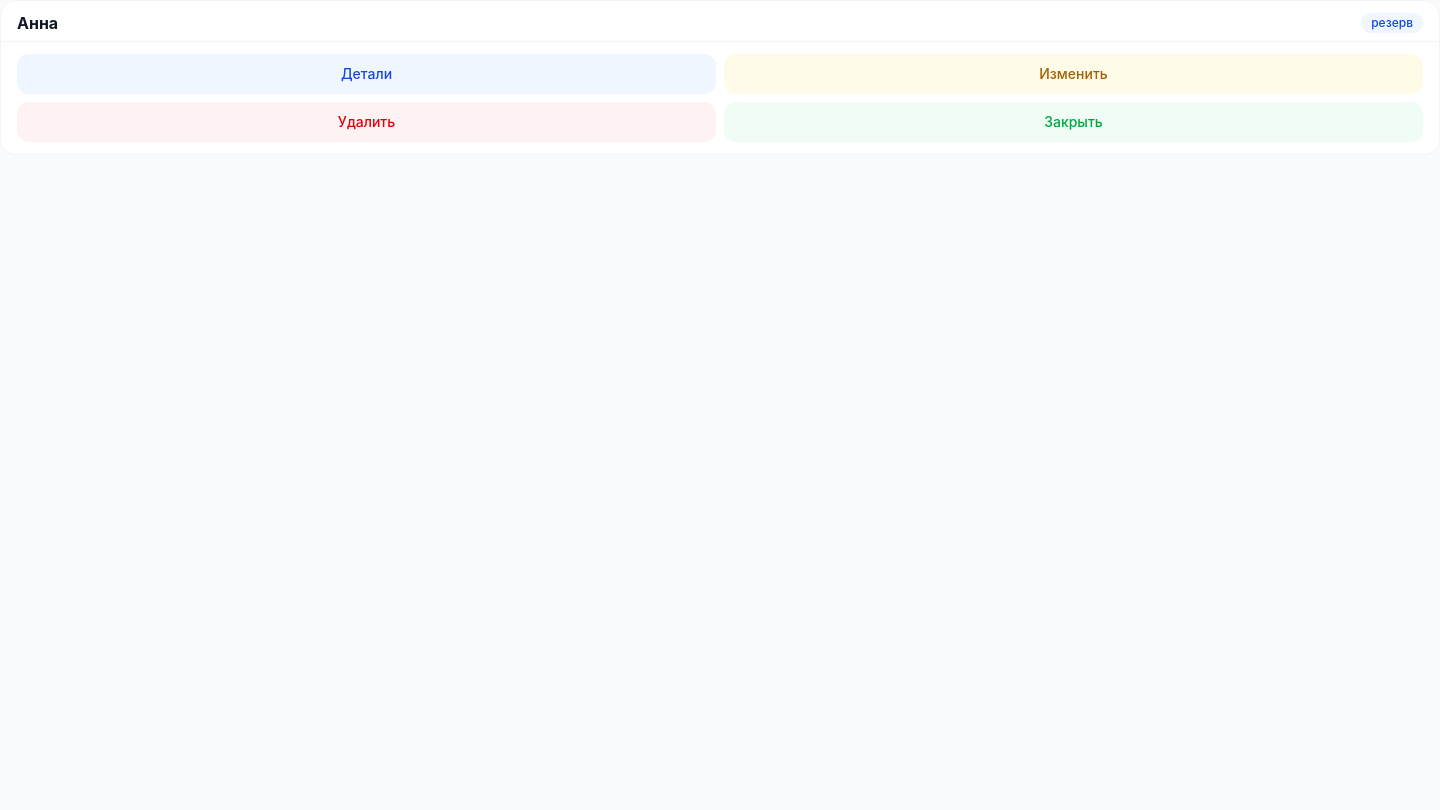
Test: OrderCard › клик удалить показывает диалог подтверждения
This screenshot has width=1440, height=810.
Click the button "Удалить": x=366, y=122 [17,102,716,142]
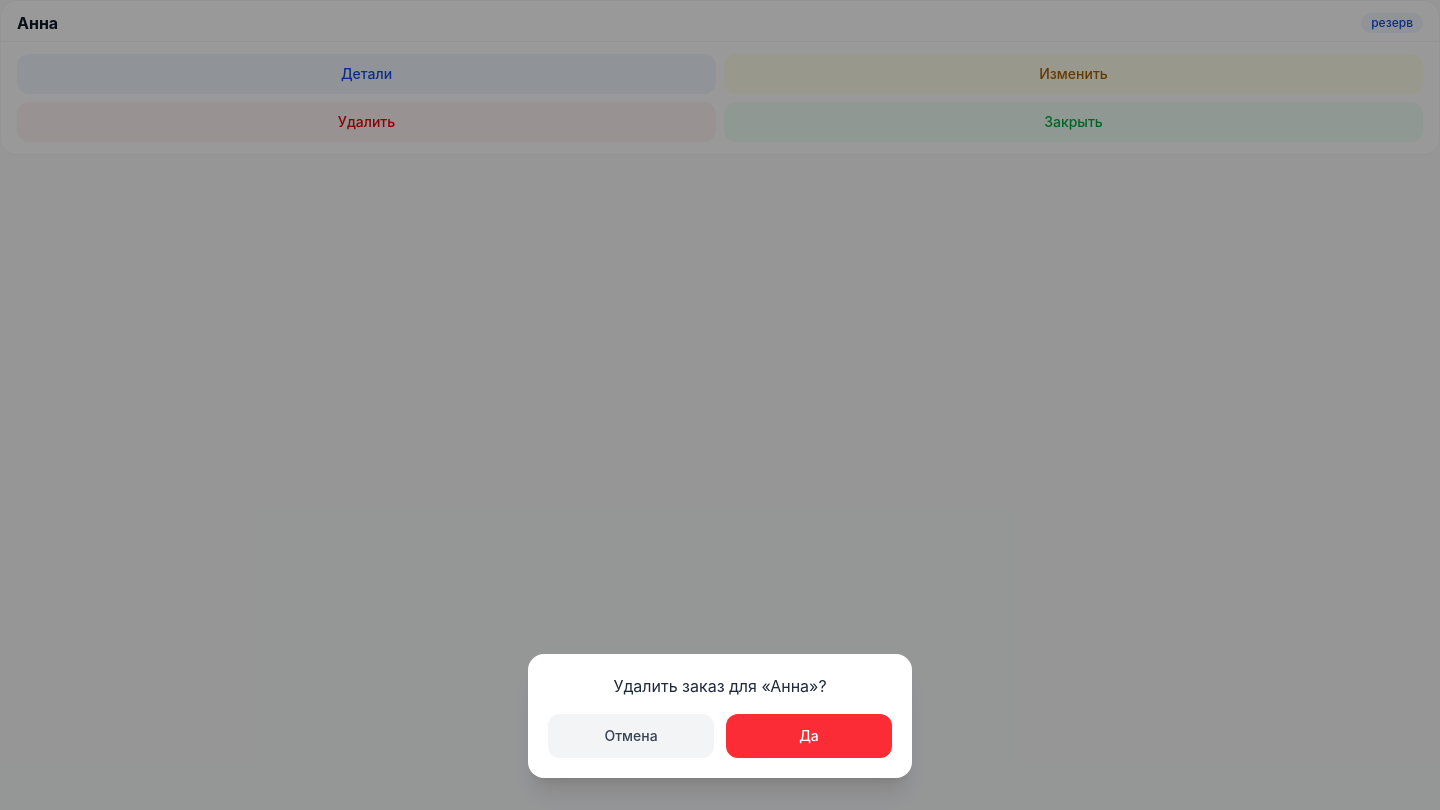
Expected: the text "Удалить заказ для «Анна»?" is shown, [613,676,826,696]
